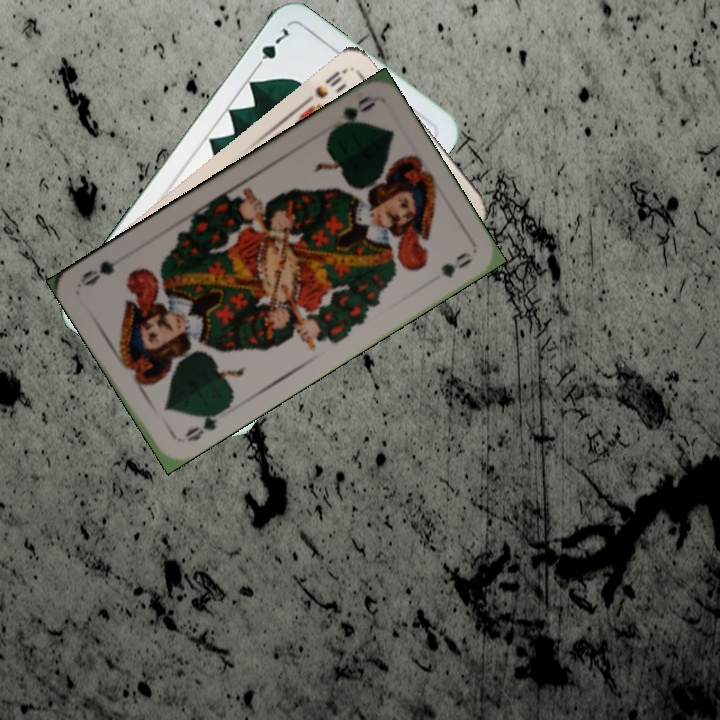G7: (250, 23, 292, 74)
GO: (325, 92, 377, 136), (181, 405, 226, 445)
S10: (299, 65, 349, 114)
